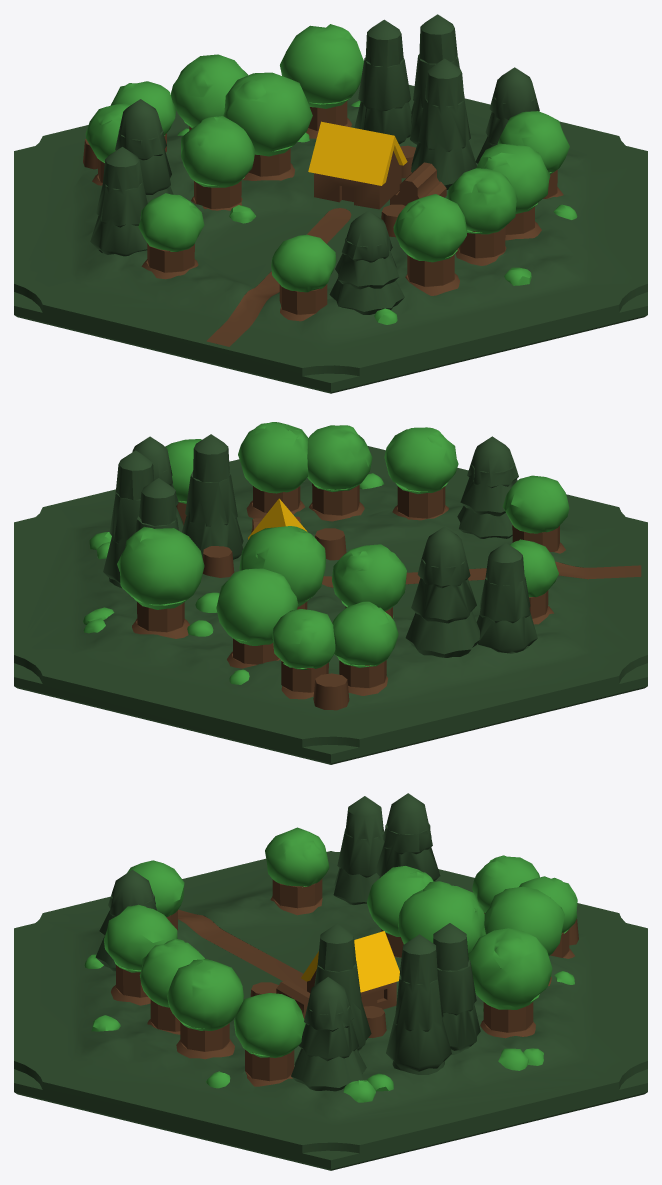
File: wald_2.glb
The picture shows the model from 3 angles, top to bottom: view 1: azimuth 30°, elevation 25°; view 2: azimuth 150°, elevation 25°; view 3: azimuth 270°, elevation 25°; orthographic projection.
Parts seen in each view (by area): view 1: wald_2; view 2: wald_2; view 3: wald_2.
Boxes of the visible parts, left/top/right/bottom form: wald_2: left=14, top=14, right=647, bottom=393; wald_2: left=14, top=422, right=647, bottom=764; wald_2: left=14, top=793, right=647, bottom=1170.
Size of the model in its own units: 65.24 by 15.46 by 56.5.
